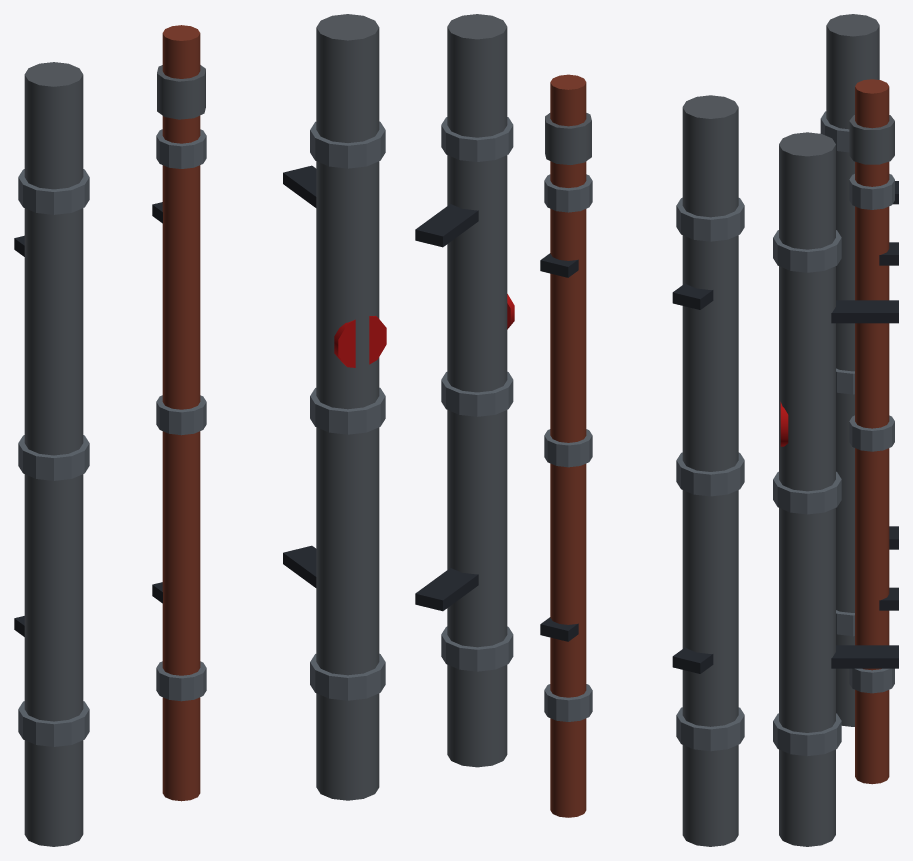
The model's file is pipes_wall.glb.
The picture shows the model from 3 angles, left to right: view 1: azimuth 30°, elevation 25°; view 2: azimuth 150°, elevation 25°; view 3: azimuth 270°, elevation 25°; orthographic projection. The views are drawn at different scales.
Parts seen in each view (by area): view 1: pipes_wall; view 2: pipes_wall; view 3: pipes_wall.
Part boxes in pixels (x1,y1,x2,y2): pipes_wall: (14, 14, 386, 846); pipes_wall: (415, 14, 744, 846); pipes_wall: (773, 14, 898, 846).
Bounding box in the file's own units: 0.915 × 2 × 0.33.
